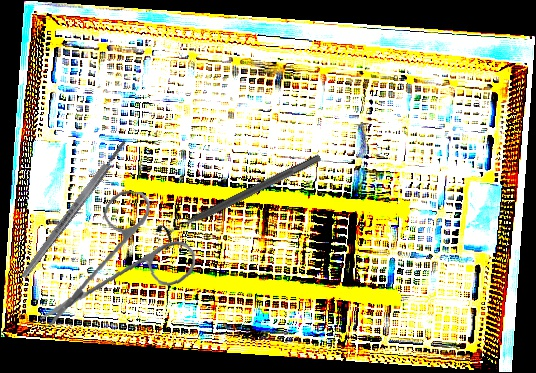Fixation Ring: (153, 144, 327, 252)
Iris Scissors: (39, 183, 202, 341)
Scalpel Handle: (18, 138, 130, 280)
